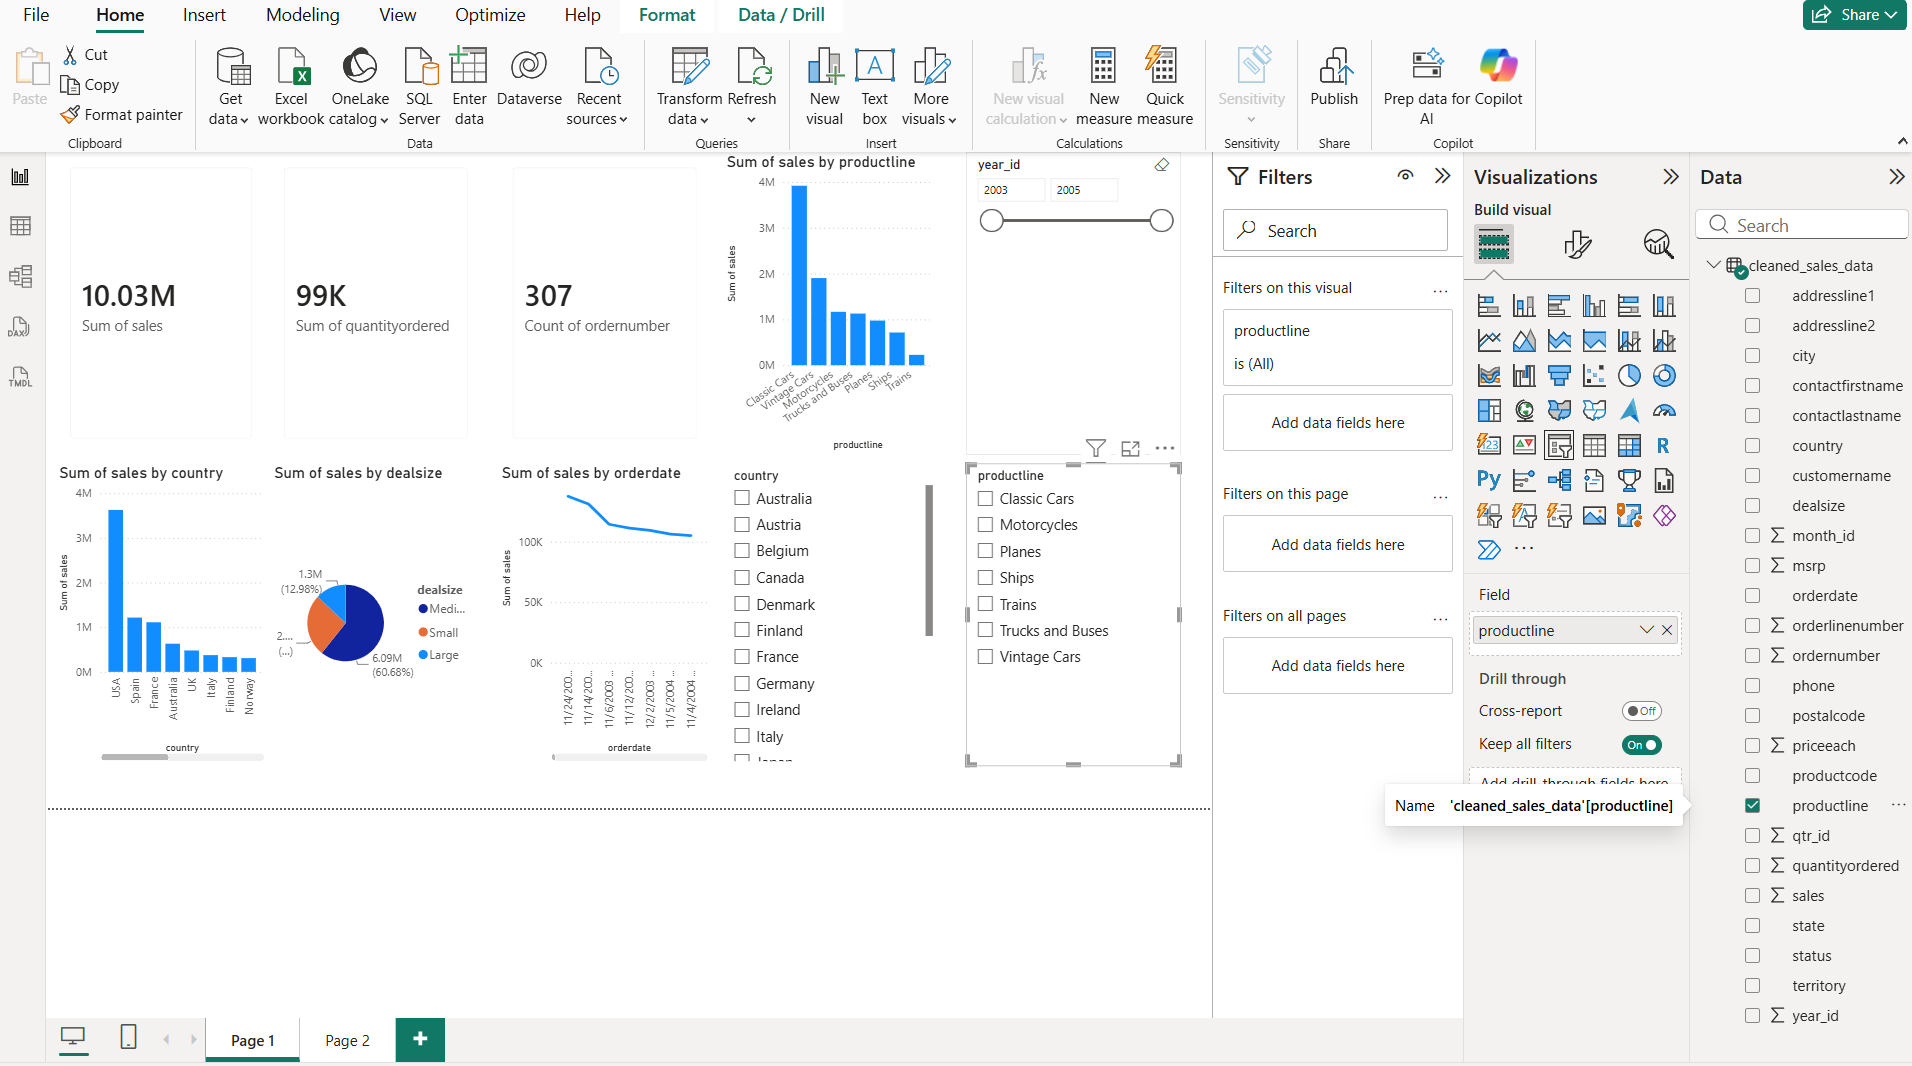

The page's visual inventory and layout, read from the dashboard file:
{"tool":"powerbi","page":{"name":"Page 1","canvas":[1280,720],"ordinal":0},"visuals":[{"type":"cardVisual","fields":{"Data":["Sum(cleaned_sales_data.sales)"]},"box":[9.6,0,234.6,332.1],"z":0},{"type":"cardVisual","fields":{"Data":["Sum(cleaned_sales_data.quantityordered)"]},"box":[244.3,0,236,332.1],"z":1},{"type":"cardVisual","fields":{"Data":["Count(cleaned_sales_data.ordernumber)"]},"box":[495.4,0,236,332.1],"z":2},{"type":"clusteredColumnChart","fields":{"Category":["cleaned_sales_data.productline"],"Y":["Sum(cleaned_sales_data.sales)"]},"box":[742.4,0,236,332.1],"z":3},{"type":"clusteredColumnChart","fields":{"Category":["cleaned_sales_data.country"],"Y":["Sum(cleaned_sales_data.sales)"]},"box":[10,342,235,332],"z":4},{"type":"pieChart","fields":{"Category":["cleaned_sales_data.dealsize"],"Y":["Sum(cleaned_sales_data.sales)"]},"box":[245,342,235,332],"z":5},{"type":"lineChart","fields":{"Category":["cleaned_sales_data.orderdate"],"Y":["Sum(cleaned_sales_data.sales)"]},"box":[495,342,236,332],"z":6},{"type":"slicer","fields":{"Values":["cleaned_sales_data.country"]},"box":[742,342,236,332],"z":7},{"type":"slicer","fields":{"Values":["cleaned_sales_data.year_id"]},"box":[1010,0,236,332],"z":8},{"type":"slicer","fields":{"Values":["cleaned_sales_data.productline"]},"box":[1010,342,236,332],"z":9}]}

Visuals, with their boxes on the page's 1280x720 design canvas (x1, y1, x2, y2). These are canvas units, not pixel positions in the 1912x1066 screenshot, which may show the page scaled, cropped or inside an application window:
cardVisual - Sum(cleaned_sales_data.sales): Rect(10, 0, 244, 332)
cardVisual - Sum(cleaned_sales_data.quantityordered): Rect(244, 0, 480, 332)
cardVisual - Count(cleaned_sales_data.ordernumber): Rect(495, 0, 731, 332)
clusteredColumnChart - cleaned_sales_data.productline x Sum(cleaned_sales_data.sales): Rect(742, 0, 978, 332)
clusteredColumnChart - cleaned_sales_data.country x Sum(cleaned_sales_data.sales): Rect(10, 342, 245, 674)
pieChart - cleaned_sales_data.dealsize x Sum(cleaned_sales_data.sales): Rect(245, 342, 480, 674)
lineChart - cleaned_sales_data.orderdate x Sum(cleaned_sales_data.sales): Rect(495, 342, 731, 674)
slicer - cleaned_sales_data.country: Rect(742, 342, 978, 674)
slicer - cleaned_sales_data.year_id: Rect(1010, 0, 1246, 332)
slicer - cleaned_sales_data.productline: Rect(1010, 342, 1246, 674)
